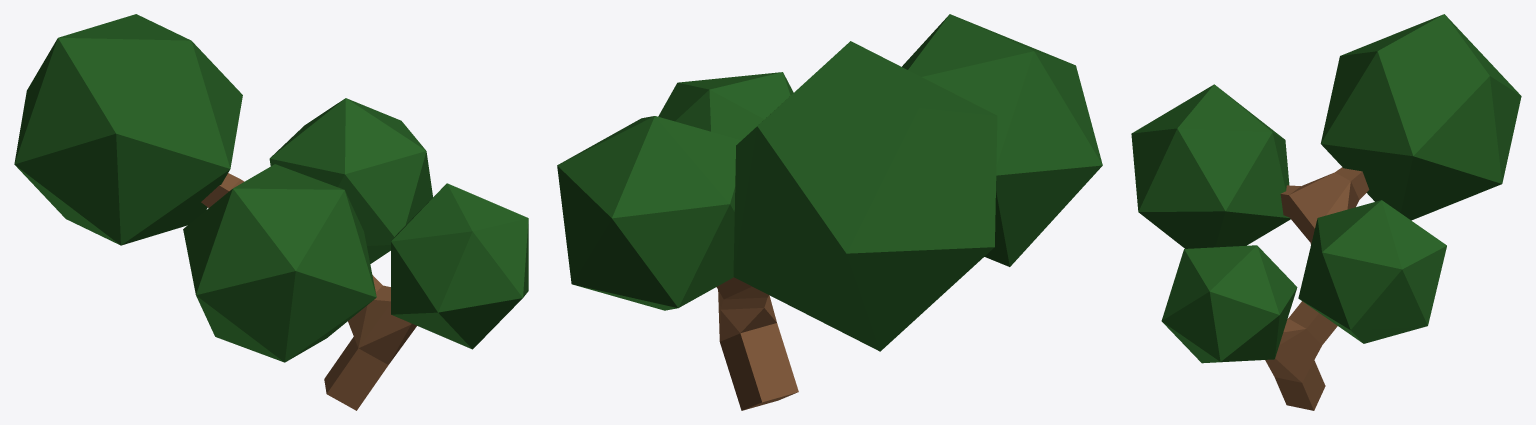
The model's file is Mesa_Bush.fbx.
3 views of the same model, side by side, from view 1: azimuth 30°, elevation 25°; view 2: azimuth 150°, elevation 25°; view 3: azimuth 270°, elevation 25° (orthographic). The views are drawn at different scales.
Visible parts, largest first — view 1: Icosphere.013, Cube.002; view 2: Icosphere.013, Cube.002; view 3: Icosphere.013, Cube.002.
Boxes of the visible parts, <box> form: Icosphere.013: <box>14,14,528,362</box>; Cube.002: <box>201,173,416,410</box>; Icosphere.013: <box>557,14,1102,351</box>; Cube.002: <box>716,277,798,410</box>; Icosphere.013: <box>1131,14,1521,363</box>; Cube.002: <box>1265,167,1369,410</box>.
Bounding box in the file's own units: 154 × 135 × 155.
